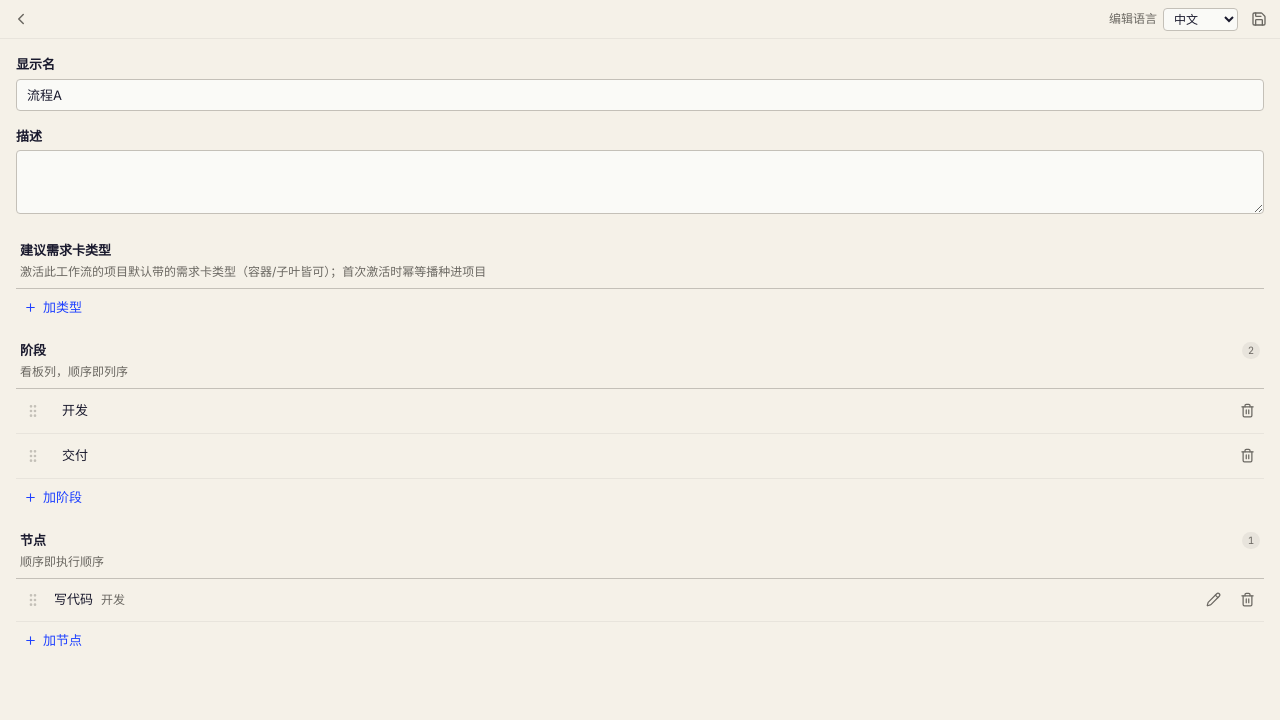
Test case: WorkflowEditor 表单编辑 › 切到使用文件时只展示新建/导入按钮，无路径输入
Click the button named "编辑节点 写代码". click: (1213,600)
box: [1200, 586, 1226, 612]
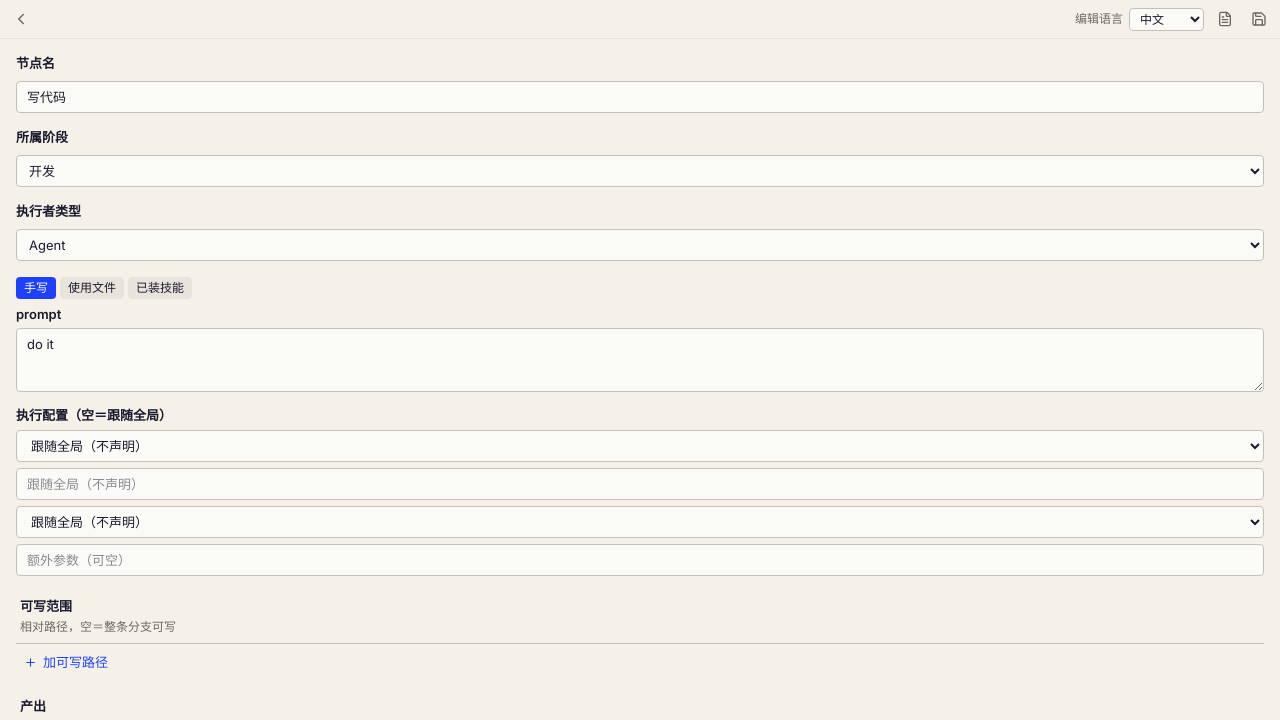
Click the radio button labelled "使用文件". click: (92,288)
box: [60, 277, 124, 299]
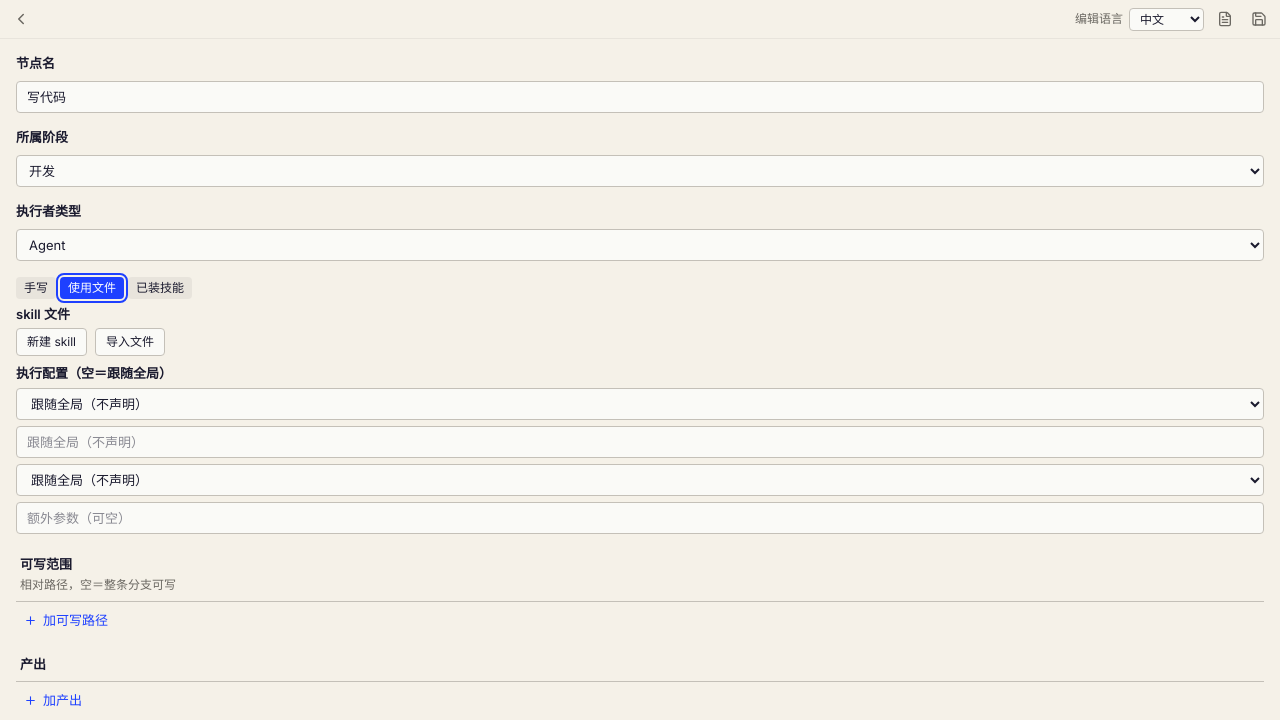
Check: the text labelled "prompt" is gone
Check: the button "新建 skill" is shown, box [16, 328, 87, 356]
Check: the button "导入文件" is shown, box [95, 328, 165, 356]
